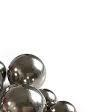ironball: (8, 52, 47, 89), (6, 81, 47, 111), (51, 99, 80, 111), (38, 87, 58, 102), (0, 57, 6, 91), (0, 106, 3, 111)
